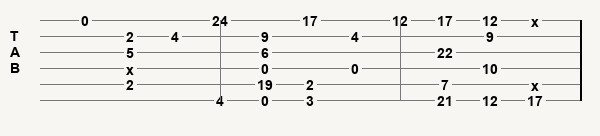0: (81, 13, 93, 27), (261, 61, 273, 75), (261, 93, 273, 107), (351, 61, 363, 75)
10: (482, 61, 502, 75)
12: (392, 13, 412, 27), (482, 13, 502, 27), (482, 93, 502, 107)
17: (302, 13, 322, 27), (437, 13, 457, 27), (527, 93, 547, 107)
19: (257, 77, 277, 91)
2: (126, 29, 138, 43), (126, 77, 138, 91), (306, 77, 318, 91)
21: (437, 93, 457, 107)
22: (437, 45, 457, 59)
24: (212, 13, 232, 27)
3: (306, 93, 318, 107)
4: (171, 29, 183, 43), (216, 93, 228, 107), (351, 29, 363, 43)
5: (126, 45, 138, 59)
6: (261, 45, 273, 59)
7: (441, 77, 453, 91)
9: (261, 29, 273, 43), (486, 29, 498, 43)
x: (126, 62, 138, 74), (531, 14, 543, 26), (531, 78, 543, 90)
